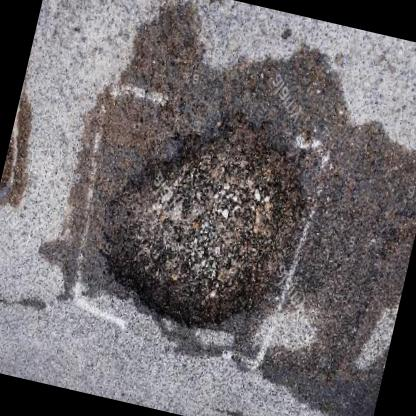pothole: (79, 92, 325, 354)
